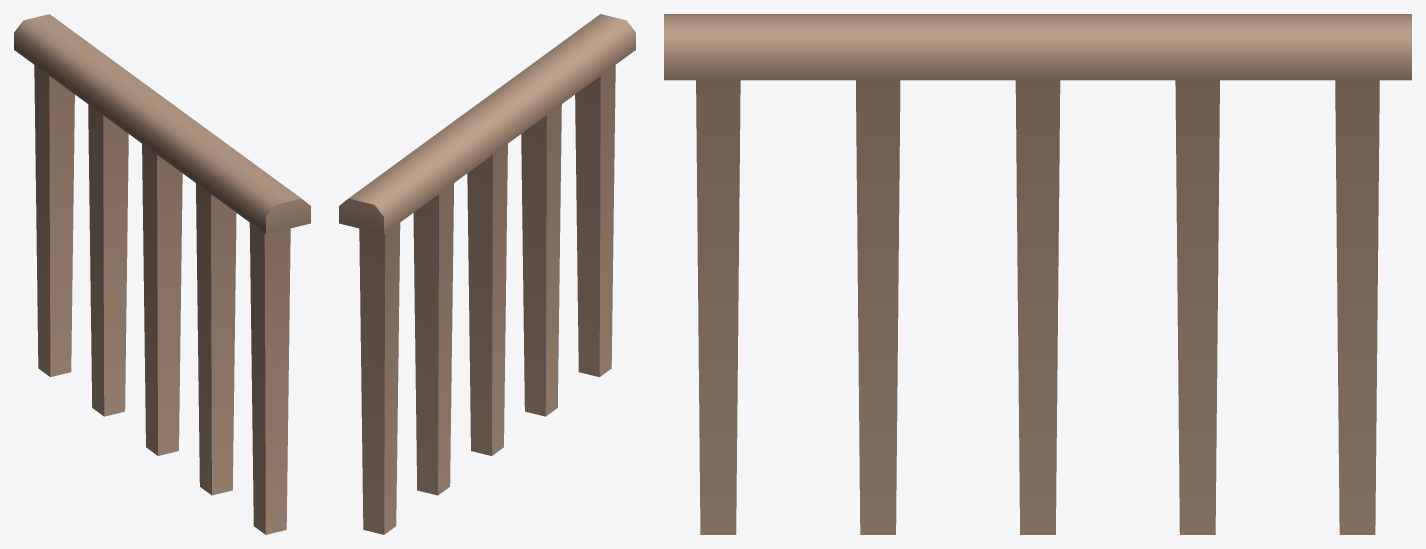
Rendered from stairs-railing-straight-basic.glb.
The picture shows the model from 3 angles, left to right: view 1: azimuth 30°, elevation 25°; view 2: azimuth 150°, elevation 25°; view 3: azimuth 270°, elevation 25°; orthographic projection. The views are drawn at different scales.
Visible parts, largest first — view 1: stairs-railing-straight-basic; view 2: stairs-railing-straight-basic; view 3: stairs-railing-straight-basic.
Part boxes in pixels (box(x1,y1,x2,y2)): stairs-railing-straight-basic: box(14, 14, 310, 534); stairs-railing-straight-basic: box(339, 14, 635, 534); stairs-railing-straight-basic: box(664, 14, 1411, 534).
Bounding box in the file's own units: 0.12 × 0.87 × 1.17.
